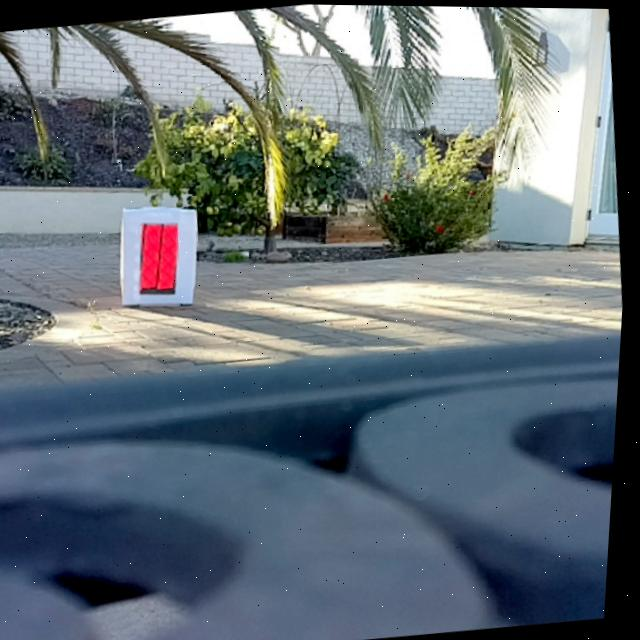led: (137, 219, 184, 296)
